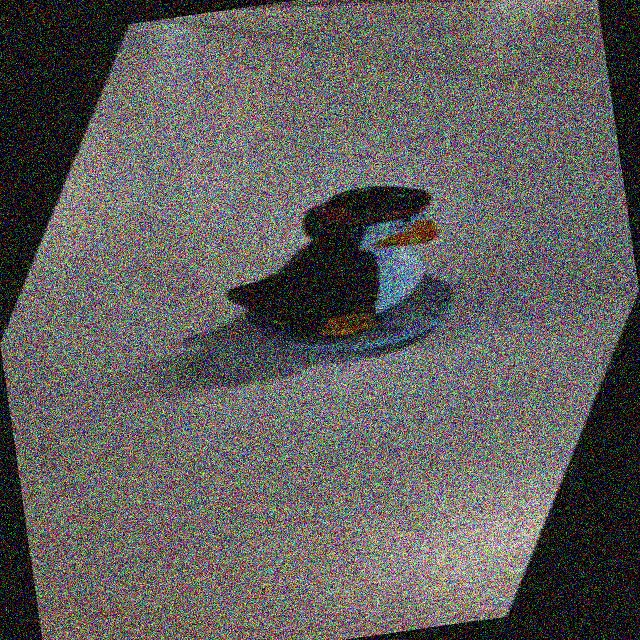Penguin: (151, 124, 563, 404)
